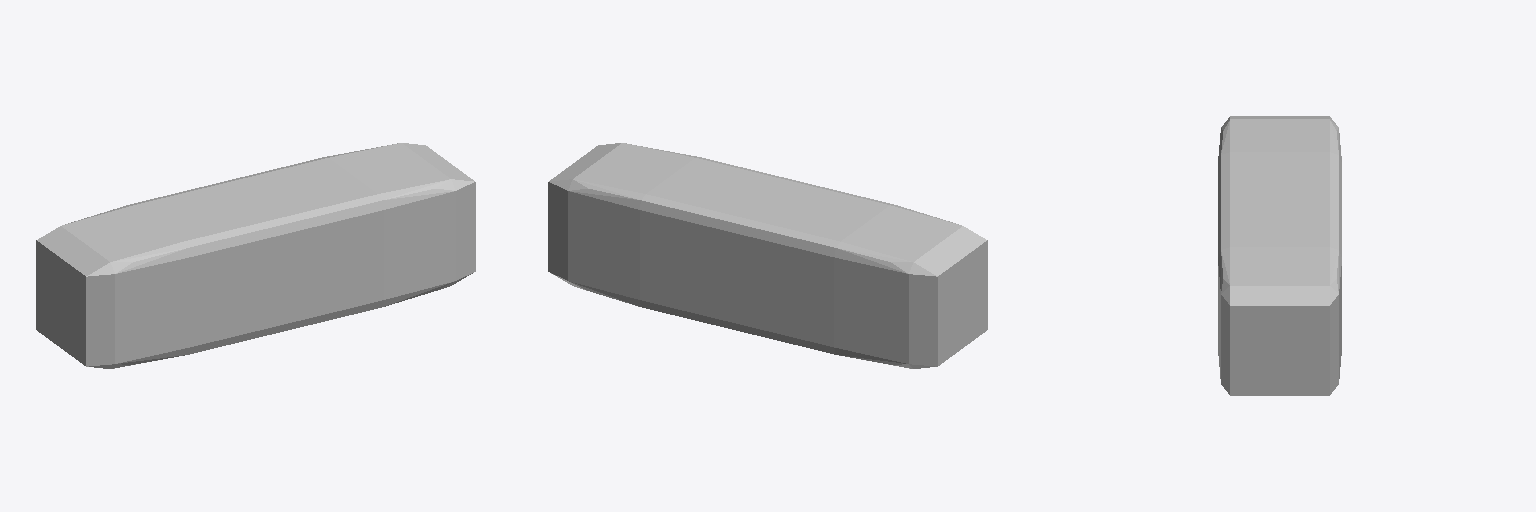
File: FrameTop.obj
3 views of the same model, side by side, from view 1: azimuth 30°, elevation 25°; view 2: azimuth 150°, elevation 25°; view 3: azimuth 270°, elevation 25° (orthographic).
Visible parts, largest first — view 1: BeamHorizontal1 Window1 HouseBase1; view 2: BeamHorizontal1 Window1 HouseBase1; view 3: BeamHorizontal1 Window1 HouseBase1.
Part boxes in pixels (x1,y1,x2,y2): BeamHorizontal1 Window1 HouseBase1: (36,143,475,368); BeamHorizontal1 Window1 HouseBase1: (548,143,987,368); BeamHorizontal1 Window1 HouseBase1: (1218,116,1341,395).
Bounding box in the file's own units: 4.23 × 1.17 × 1.17.